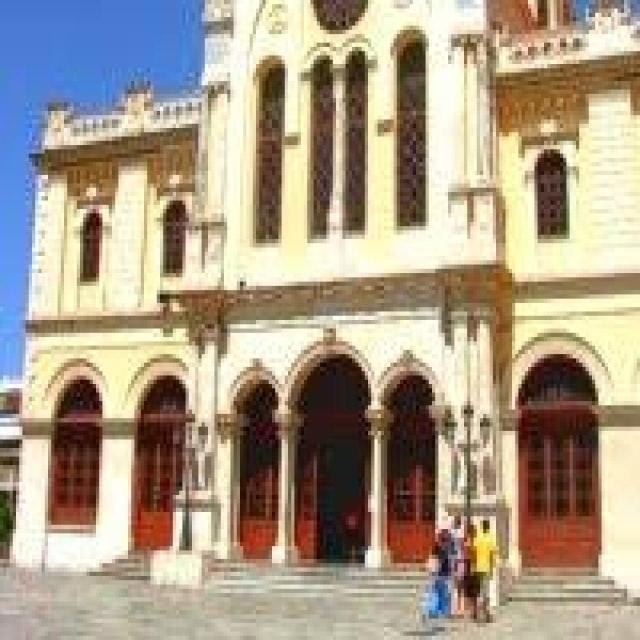Agios Minas: (11, 11, 640, 599)
